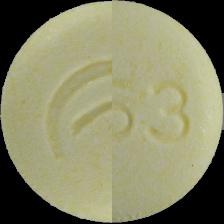0228-2853: (0, 0, 224, 224)
